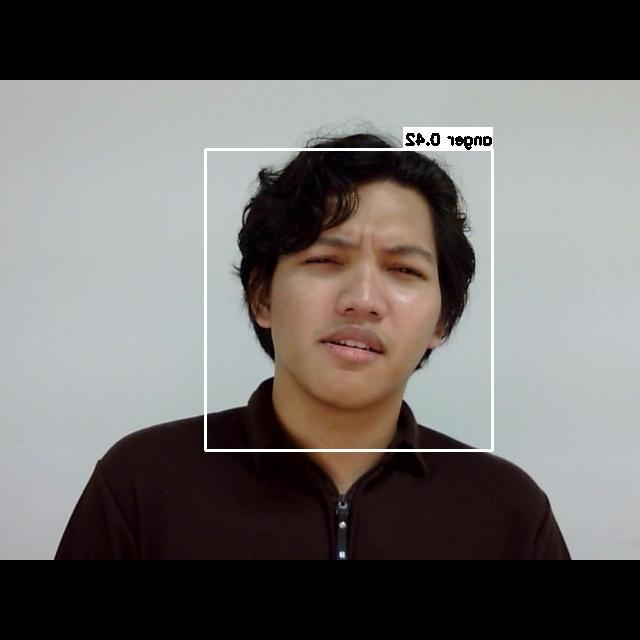Sad: (266, 211, 452, 392)
